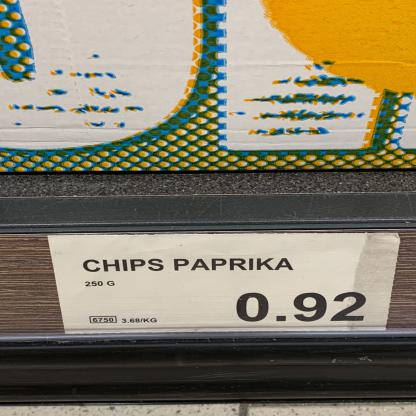prtg: (46, 234, 400, 337)
